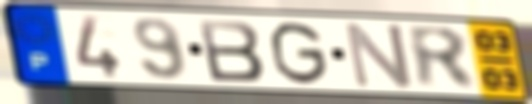4: (74, 13, 126, 80)
9: (130, 16, 191, 83)
B: (195, 18, 268, 84)
G: (268, 19, 331, 87)
N: (341, 20, 416, 91)
R: (403, 23, 482, 92)
